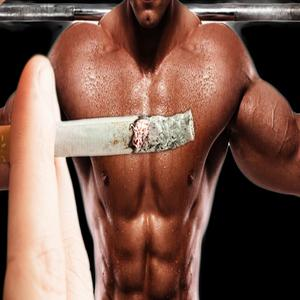cigarette: (1, 106, 201, 160)
